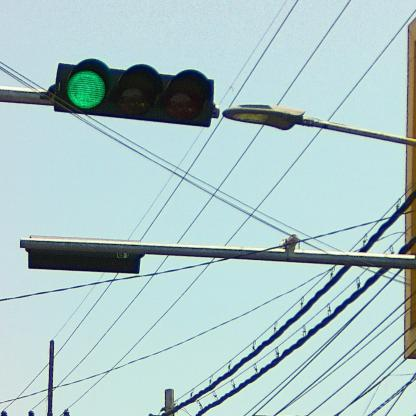green: (52, 60, 214, 127)
